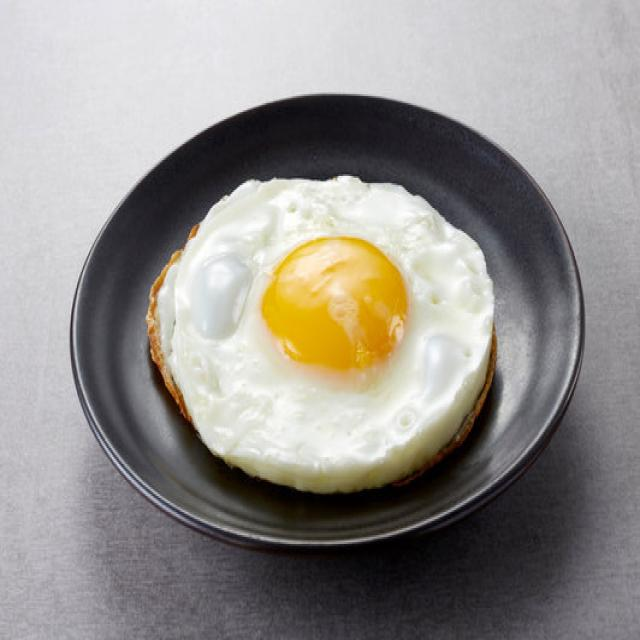Egg: (148, 175, 496, 493)
